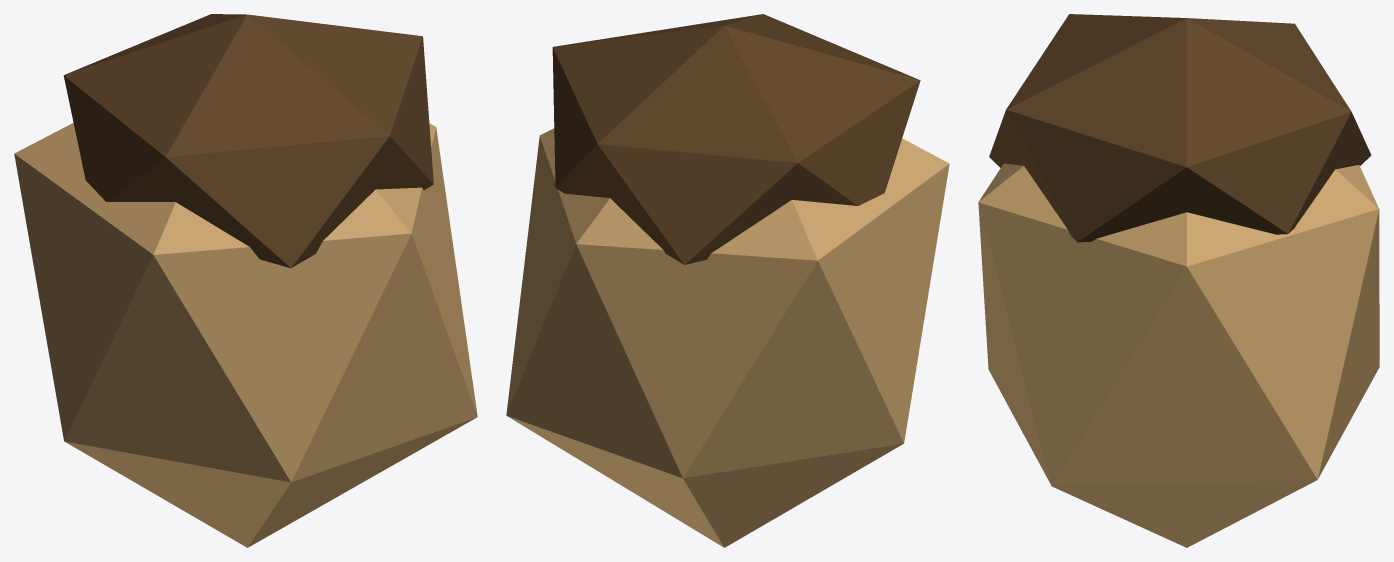
The model's file is HS_LP_Ground_Acorn_01.fbx.
3 views of the same model, side by side, from view 1: azimuth 30°, elevation 25°; view 2: azimuth 150°, elevation 25°; view 3: azimuth 270°, elevation 25° (orthographic). The views are drawn at different scales.
Visible parts, largest first — view 1: HS_LP_Ground_Acorn_01; view 2: HS_LP_Ground_Acorn_01; view 3: HS_LP_Ground_Acorn_01.
Boxes of the visible parts, <box> form: HS_LP_Ground_Acorn_01: <box>14,14,477,547</box>; HS_LP_Ground_Acorn_01: <box>506,14,949,547</box>; HS_LP_Ground_Acorn_01: <box>978,14,1379,547</box>.
Size of the model in its own units: 7.83 by 10.73 by 7.36.
